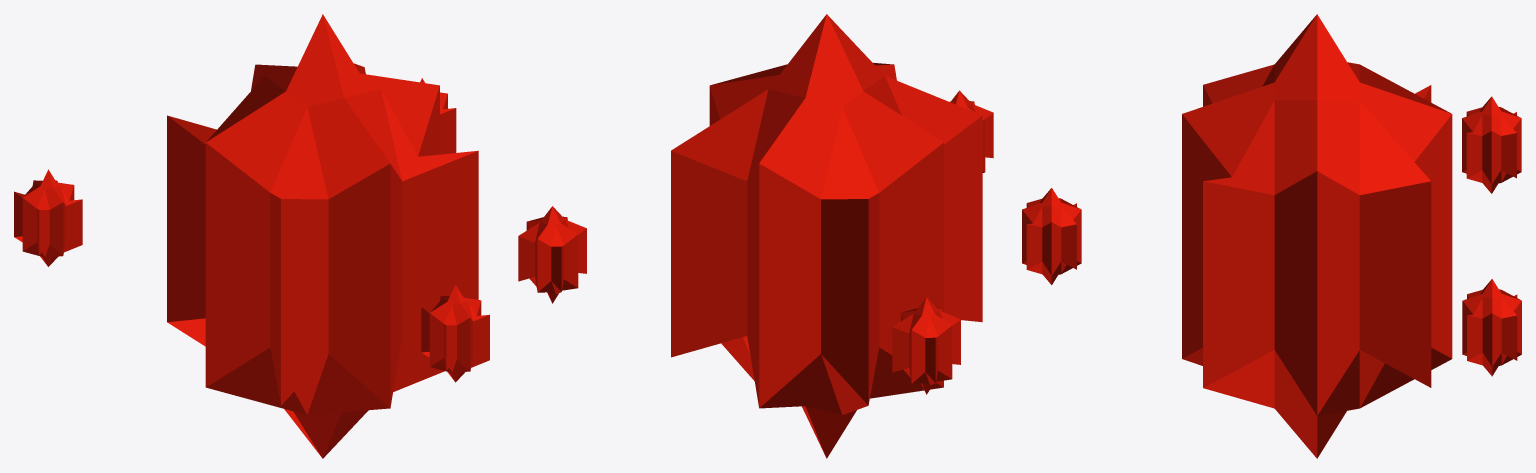
File: EnergyCristals.fbx
3 renders of one model, left to right at view 1: azimuth 30°, elevation 25°; view 2: azimuth 150°, elevation 25°; view 3: azimuth 270°, elevation 25°, orthographic.
Visible parts, largest first — view 1: Principal Power Gem, Power Gem.001, Power Gem.002, Power Gem; view 2: Principal Power Gem, Power Gem, Power Gem.001, Power Gem.002; view 3: Principal Power Gem, Power Gem.001, Power Gem, Power Gem.002.
Boxes of the visible parts, bbox=[...] form: Principal Power Gem: bbox=[167, 14, 478, 458]; Power Gem.001: bbox=[14, 169, 82, 266]; Power Gem.002: bbox=[421, 285, 489, 382]; Power Gem: bbox=[420, 78, 456, 154]; Principal Power Gem: bbox=[671, 14, 982, 458]; Power Gem: bbox=[518, 206, 586, 303]; Power Gem.001: bbox=[892, 297, 960, 394]; Power Gem.002: bbox=[949, 90, 993, 172]; Principal Power Gem: bbox=[1182, 14, 1452, 458]; Power Gem.001: bbox=[1462, 96, 1521, 193]; Power Gem: bbox=[1462, 279, 1521, 376]; Power Gem.002: bbox=[1022, 188, 1081, 284].
Size of the model in its own units: 56.88 by 56.84 by 57.88.
